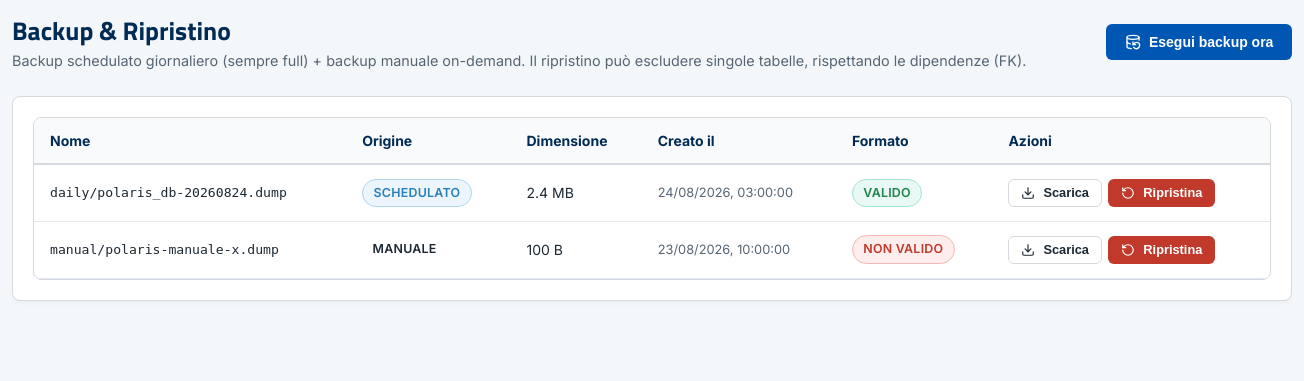
it: BackupView › esegui backup ora: errore dal backend mostrato verbatim
Expected: the text "daily/polaris_db-20260824.dump" is shown, [34,164,346,221]
Click the button "Esegui backup ora": {"x": 1199, "y": 42} [1106,24,1292,60]
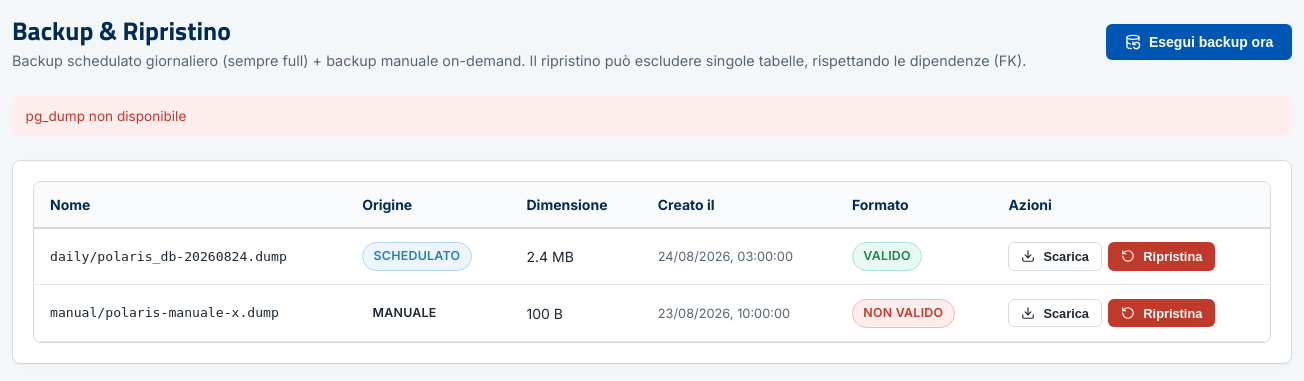
Expected: the text "pg_dump non disponibile" is shown, [12,96,1292,136]
